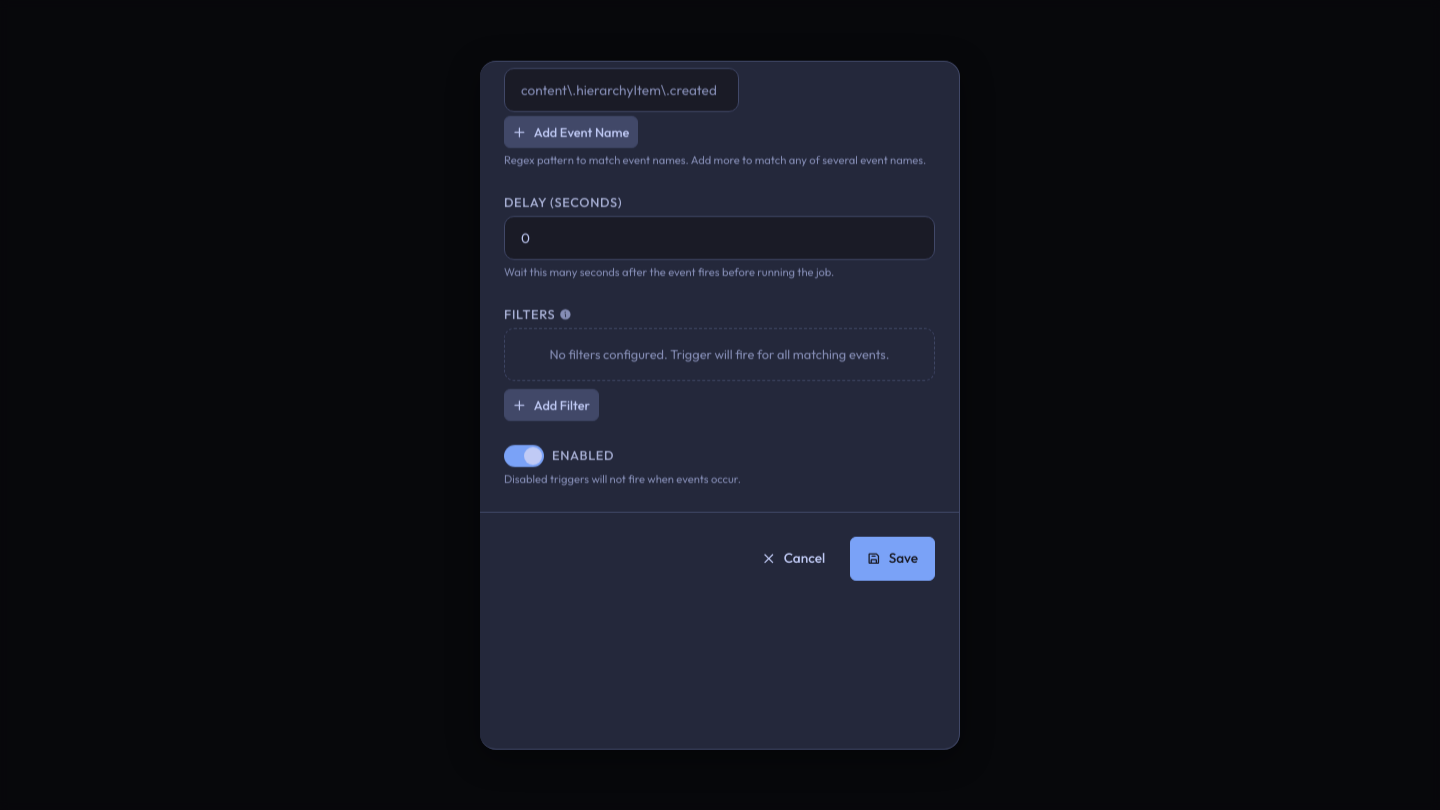
Test: EventTriggerForm - Filters › removes filter when remove button is clicked
(page scrolled)
Step 1. Click the button "Add Filter" → (552, 405), box [504,389,599,421]
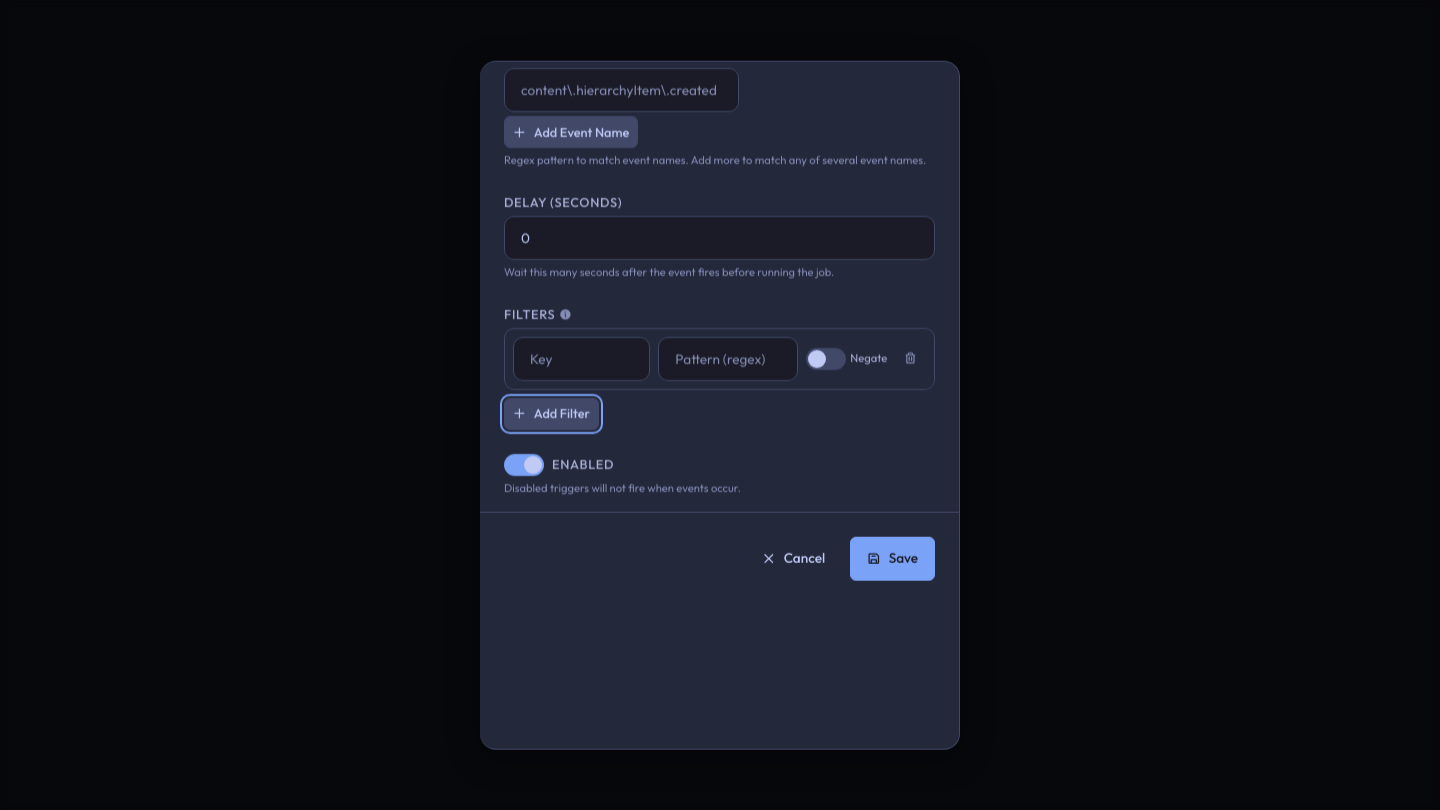
Now the field named "filter 1 key" is shown, box [514,340,649,377]
Step 2. Click the button named "remove filter 1" → (911, 359), box [895,343,926,375]
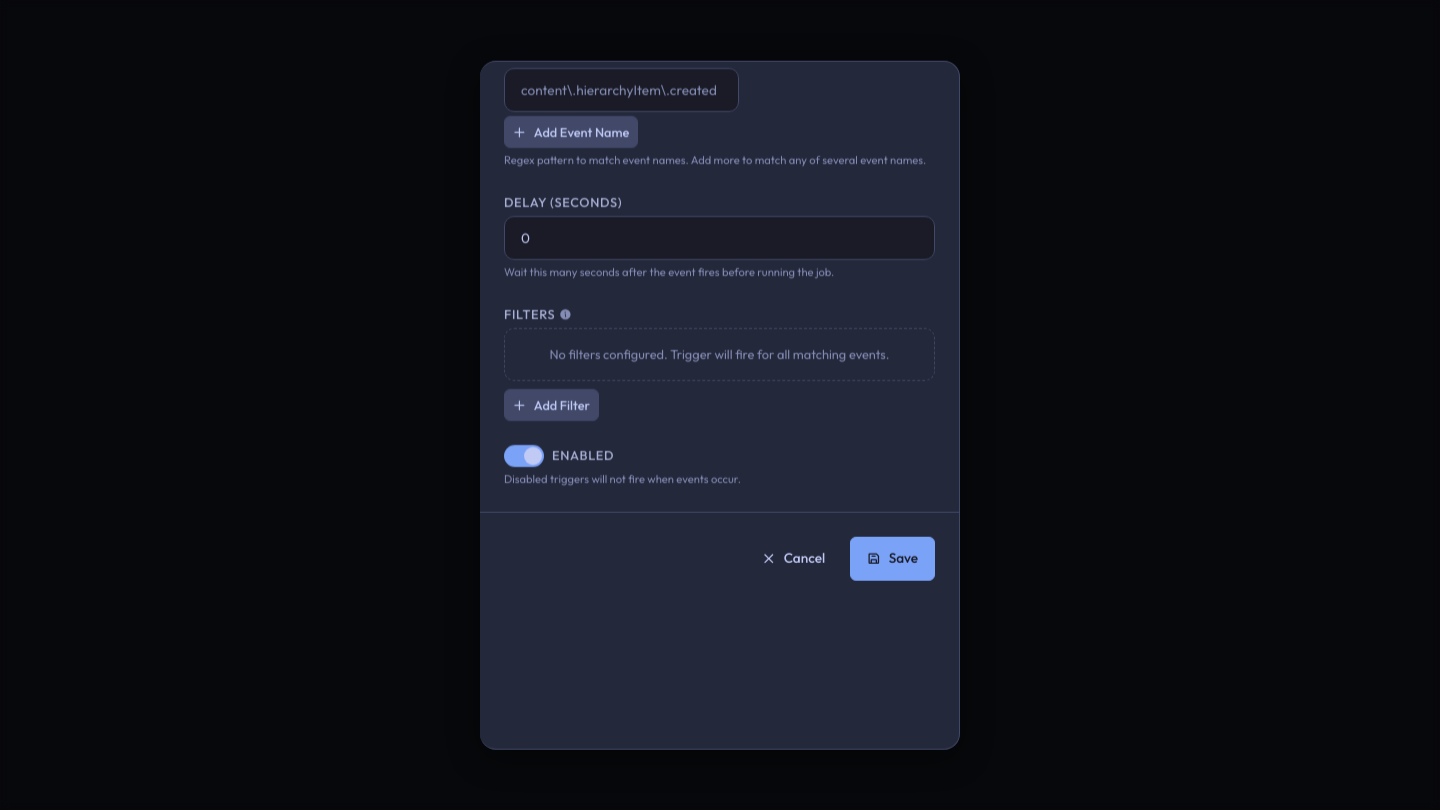
Now the text "No filters configured" is shown, box [549,346,890,362]
